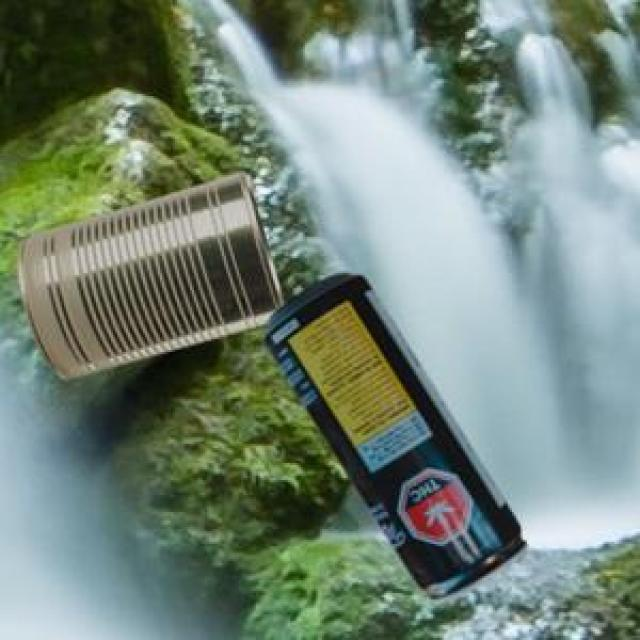logam: (261, 272, 524, 601), (14, 170, 281, 377)
